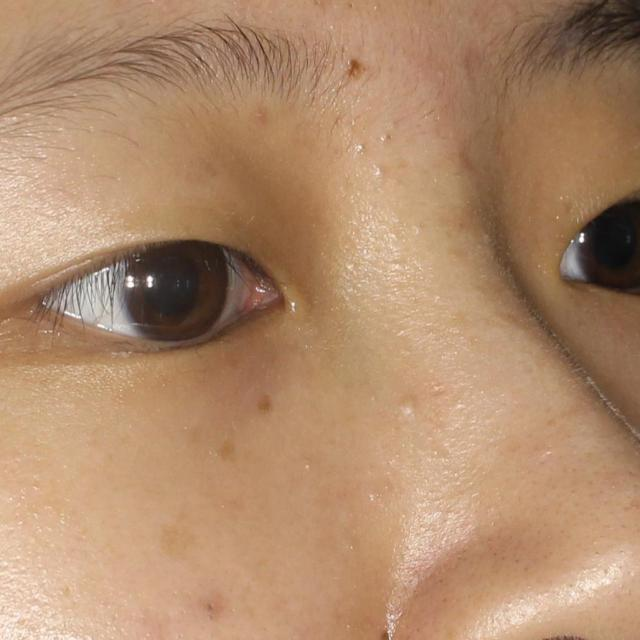blackhead: (348, 59, 362, 78), (379, 131, 394, 144), (354, 140, 369, 152), (348, 3, 354, 9), (208, 616, 214, 620), (209, 604, 212, 608)
